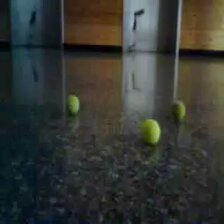tennis: (139, 119, 160, 145), (65, 95, 81, 116), (171, 102, 186, 122)
